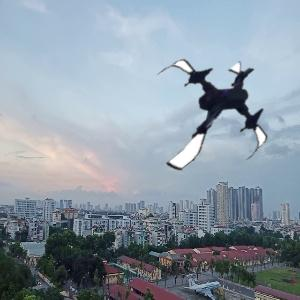drone: (143, 48, 276, 181)
